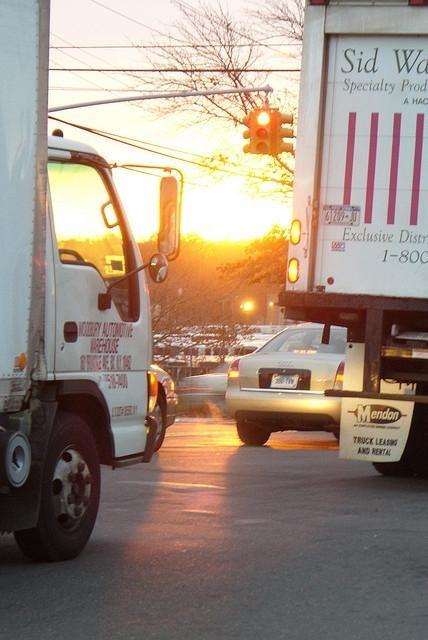car: (224, 322, 346, 446), (100, 370, 168, 470), (175, 361, 228, 410), (150, 364, 178, 428)
truck: (2, 3, 150, 555), (279, 3, 427, 472)
